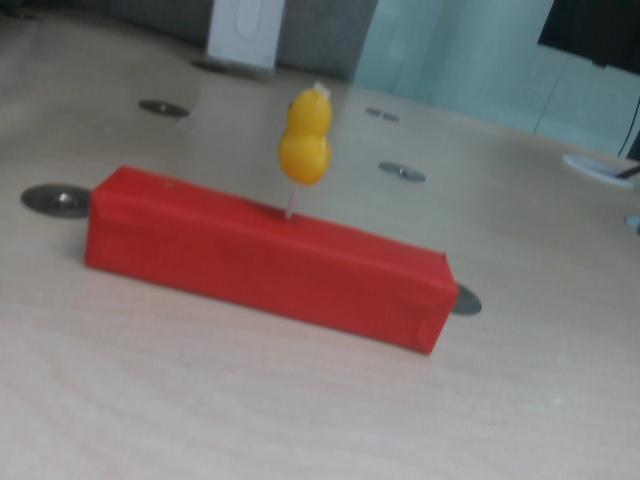y_duck: (268, 73, 343, 227)
